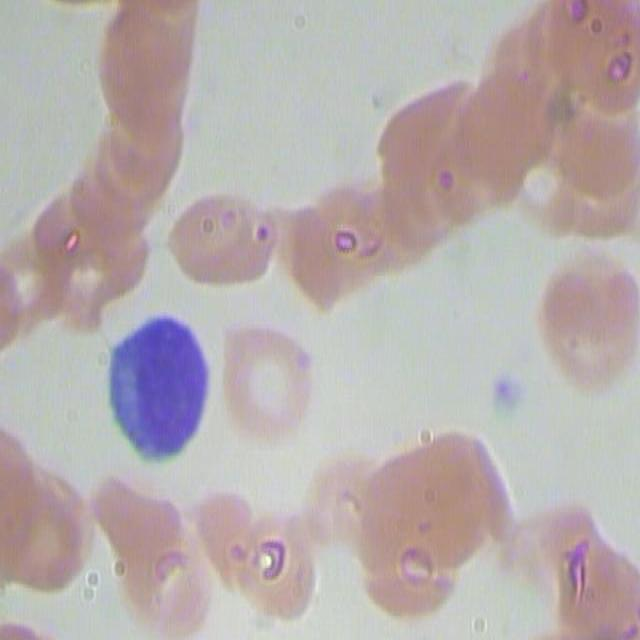RBC: (510, 12, 640, 256), (350, 422, 477, 622), (32, 146, 155, 336), (373, 80, 501, 254), (105, 479, 212, 640), (277, 172, 389, 315), (534, 238, 637, 392), (0, 419, 85, 596), (216, 304, 318, 446), (98, 1, 194, 112), (168, 186, 271, 289)
WBC: (100, 311, 216, 488)
platelets: (486, 367, 527, 418)
